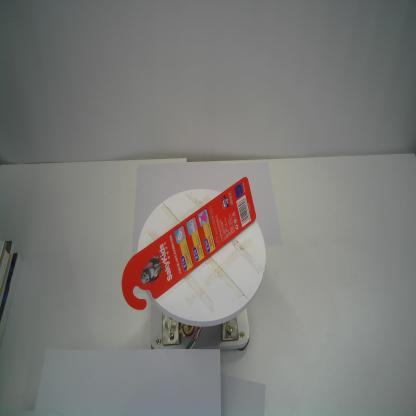Personal Hygiene: (121, 176, 256, 311)
